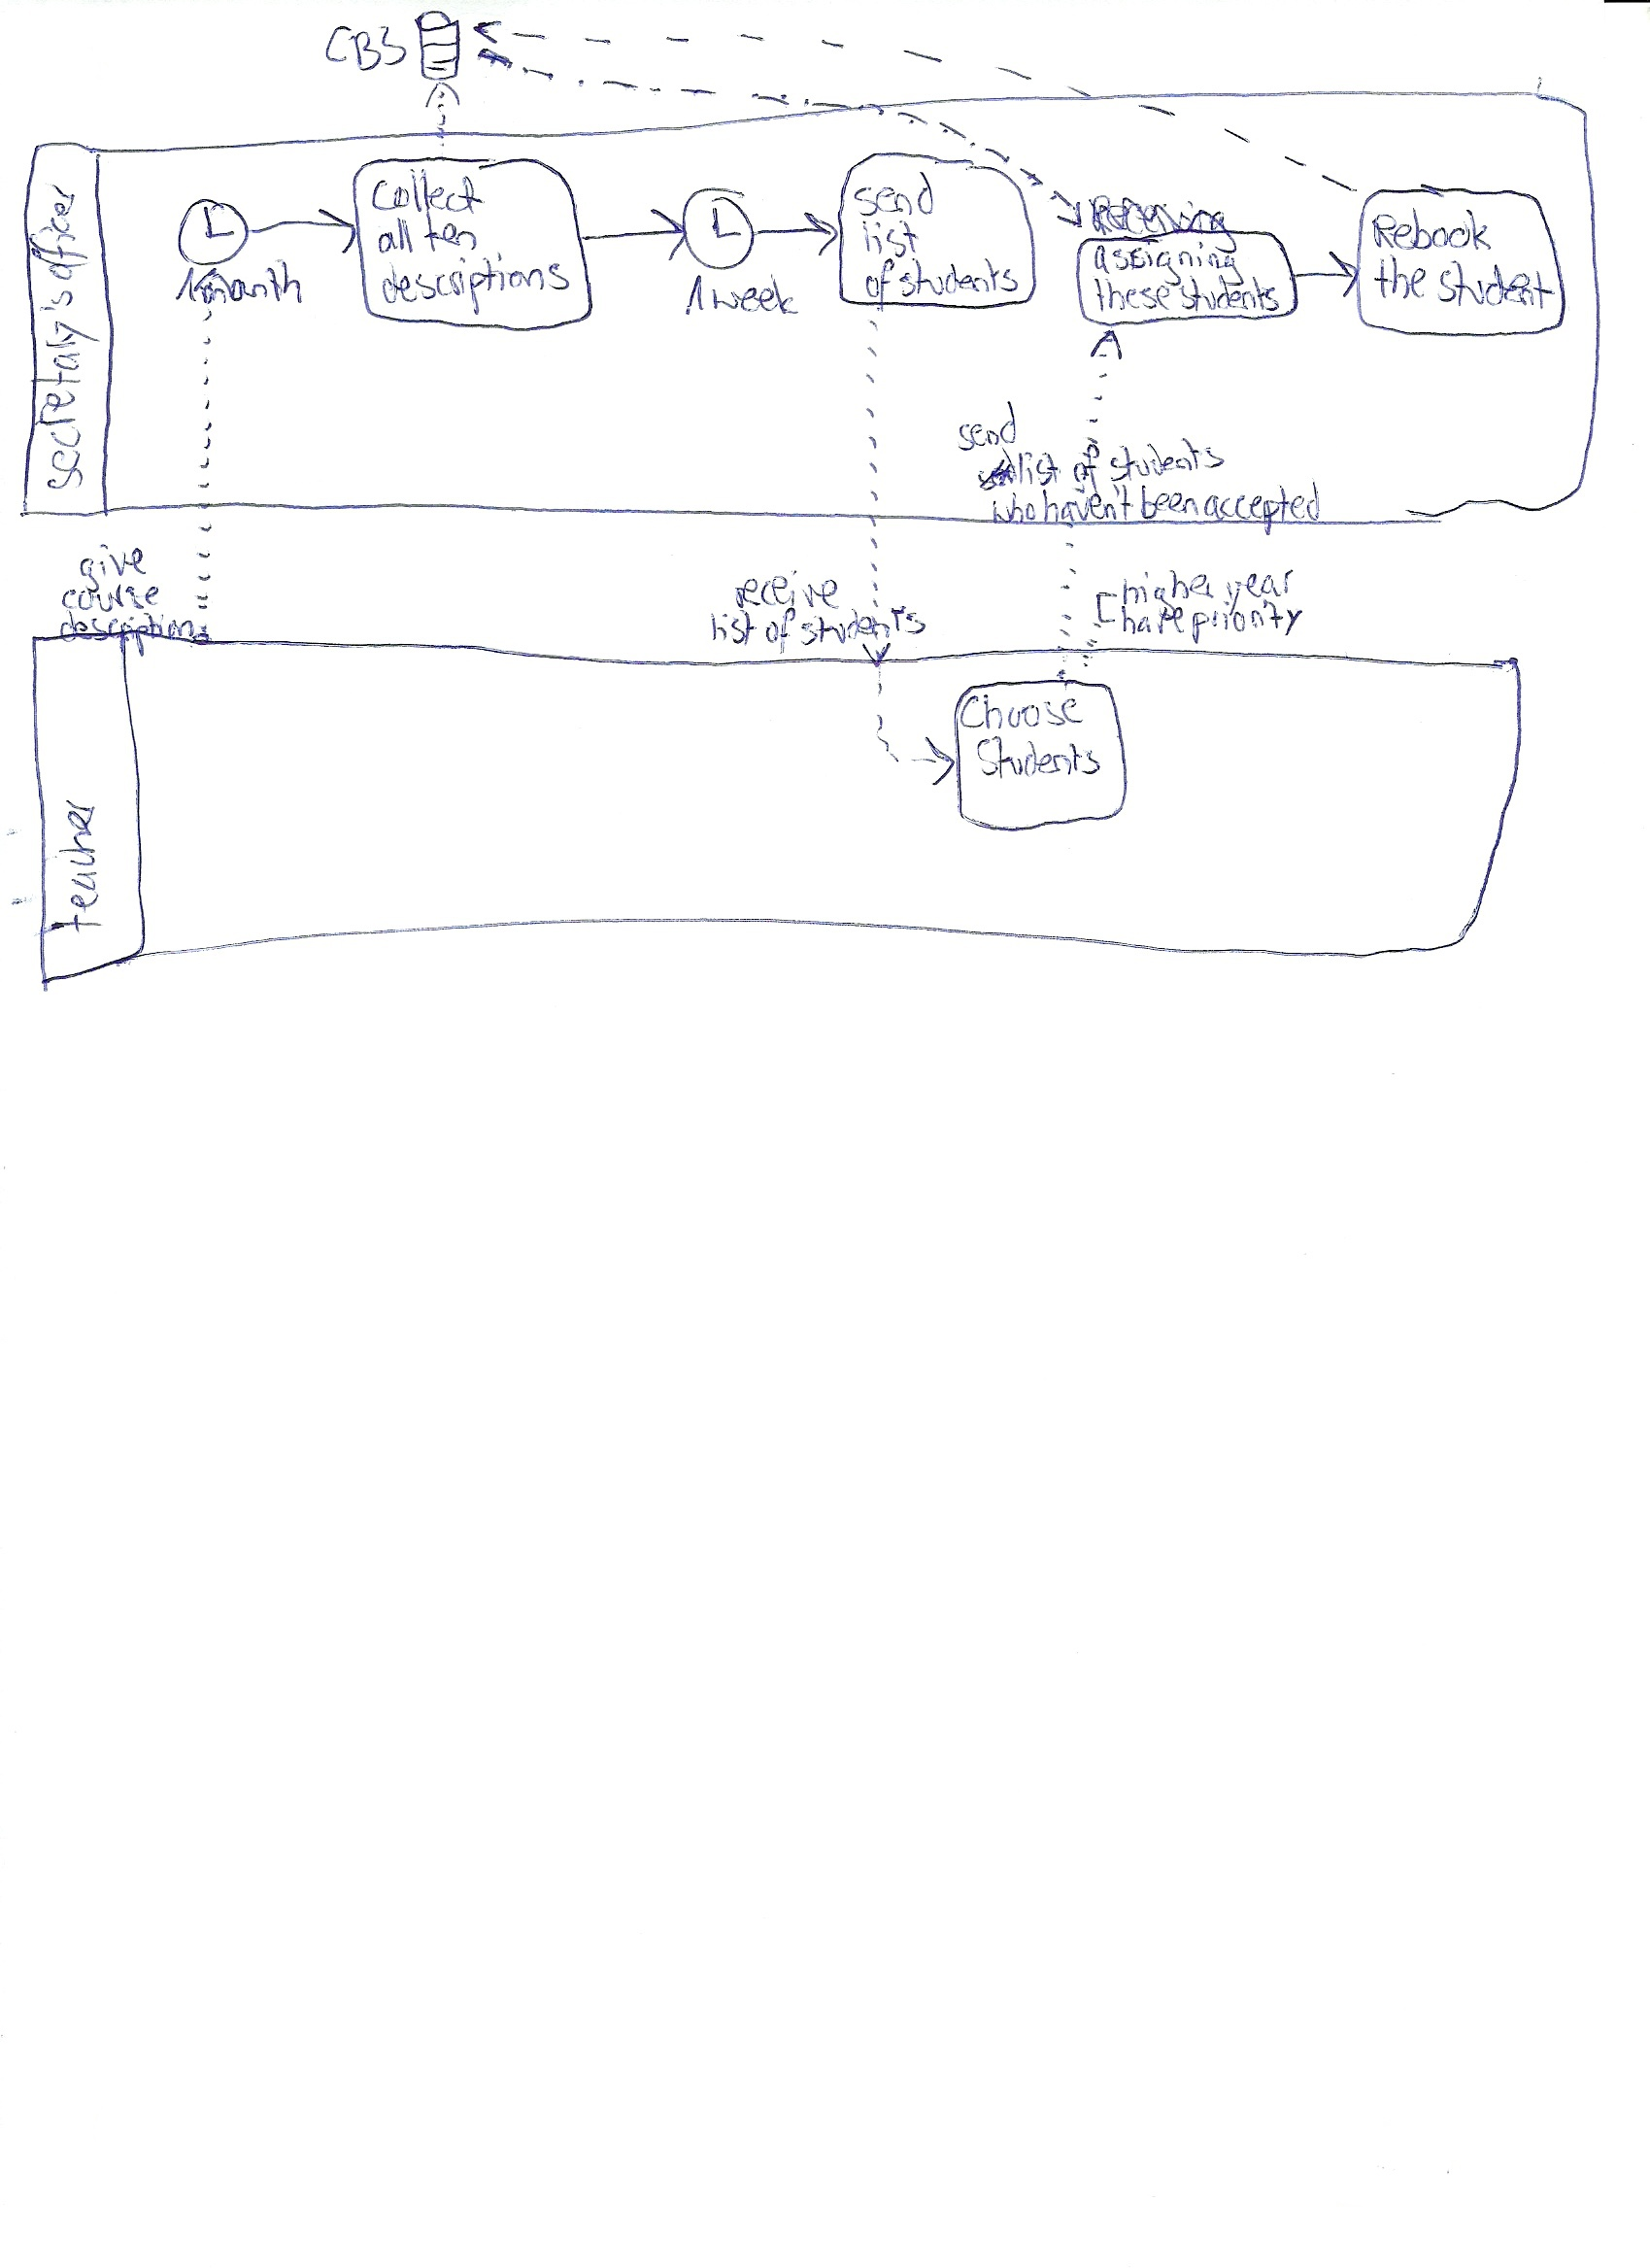1: (683, 272, 712, 319), (173, 264, 196, 305)
CBS: (324, 22, 410, 77)
Choose: (960, 694, 1083, 733)
Rebook: (1369, 208, 1496, 254)
Students: (974, 735, 1102, 780)
accepted: (1200, 483, 1323, 537)
all: (377, 215, 418, 254)
assigning: (1089, 241, 1245, 288)
been: (1138, 482, 1200, 523)
collect: (370, 167, 483, 217)
course: (59, 576, 164, 614)
description: (56, 610, 216, 657)
descriptions: (377, 255, 570, 315)
give: (72, 549, 146, 598)
have: (1118, 606, 1189, 637)
haven't: (1041, 483, 1132, 526)
higher: (1119, 573, 1216, 623)
list: (858, 216, 922, 259), (707, 611, 758, 648), (1014, 451, 1065, 487)
month: (200, 262, 306, 306)
of: (762, 607, 799, 656), (860, 257, 897, 305), (1072, 442, 1104, 491)
officer: (27, 183, 91, 283)
priority: (1188, 600, 1304, 646)
receive: (732, 573, 845, 611)
secretary's: (33, 288, 101, 490)
send: (853, 171, 938, 219), (954, 403, 1020, 456)
student: (1437, 255, 1557, 305)
students: (894, 256, 1019, 299), (794, 613, 927, 649), (1101, 446, 1223, 484), (1174, 276, 1281, 315)
teacher: (57, 797, 103, 936)
ten: (424, 210, 479, 253)
the: (1371, 254, 1430, 302)
these: (1091, 275, 1174, 314)
week: (709, 270, 805, 313)
who: (989, 490, 1039, 526)
year: (1220, 569, 1295, 617)
